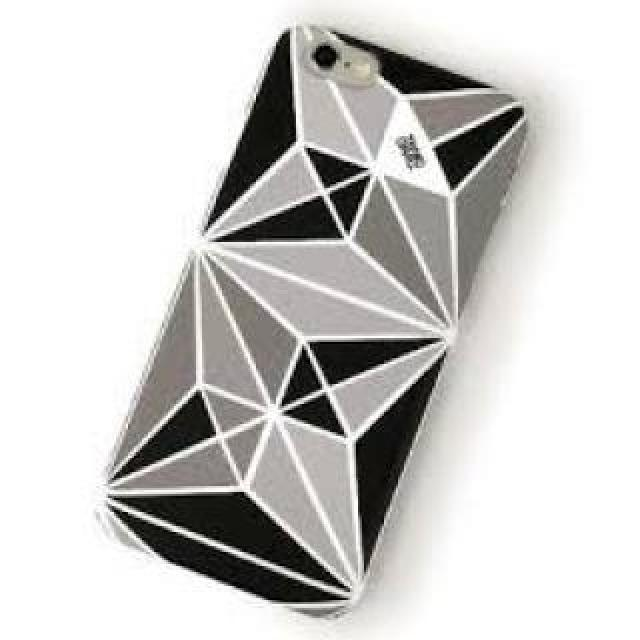smart phone: (120, 5, 542, 630)
